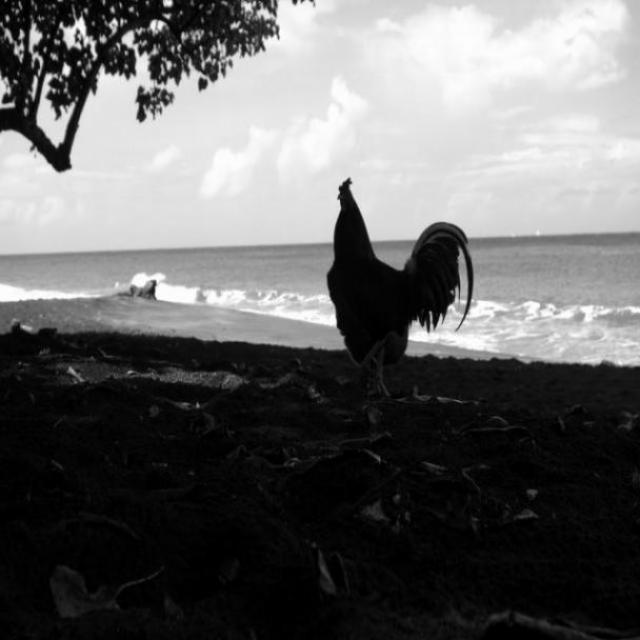Chicken: (327, 161, 472, 405)
